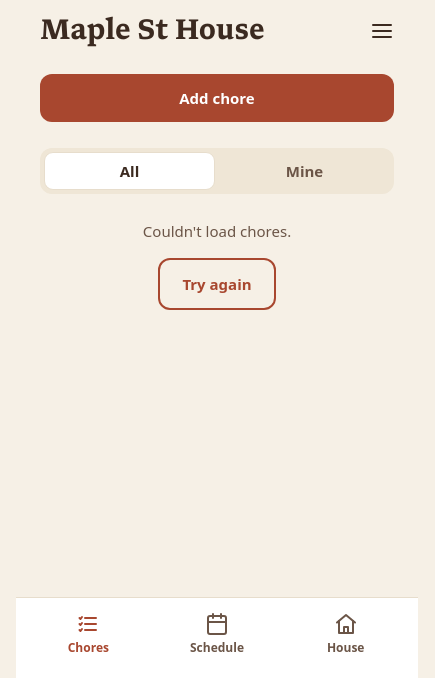
Test: Home chore list › offers Try again when the chores don't load
expect the message reads "Couldn't load chores.": met, box x1=143 y1=221 x2=291 y2=241
Click the button "Try again".
click(217, 284)  # box x1=158 y1=258 x2=276 y2=310
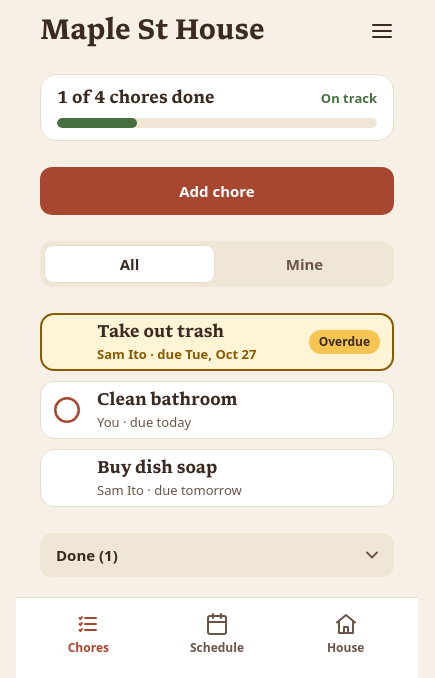
expect the list named "Chores to do" is shown: met, box x1=40 y1=313 x2=394 y2=507
